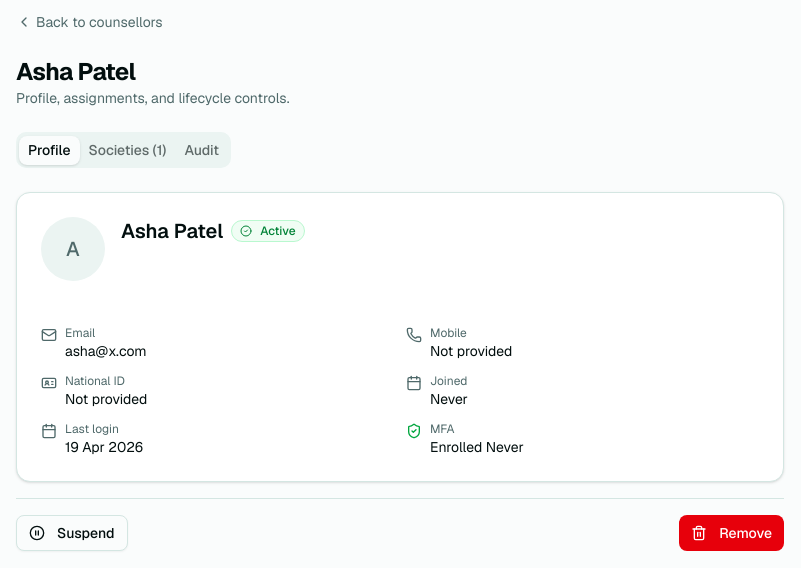
Test: CounsellorDetailPage › shows assigned society details when Societies tab is active
The image size is (801, 568).
What coordinates should you click on to do the following:
click the tab "Societies (1)"
I would click on:
 (127, 150)
Its box is [80,136,175,164].
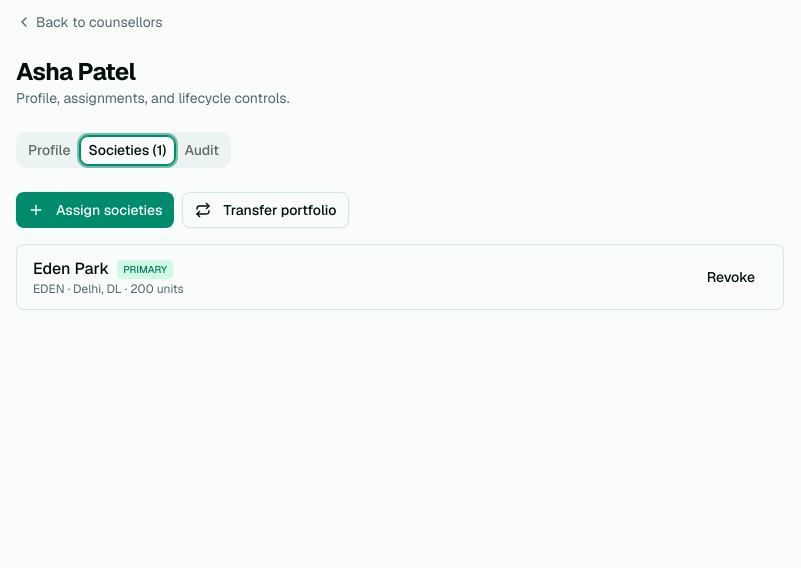
Expected: the text "Eden Park" is shown, [33,257,109,281]
Expected: the text "EDEN · Delhi, DL · 200 units" is shown, [33,281,184,297]
Expected: the text "PRIMARY" is shown, [117,260,173,278]
